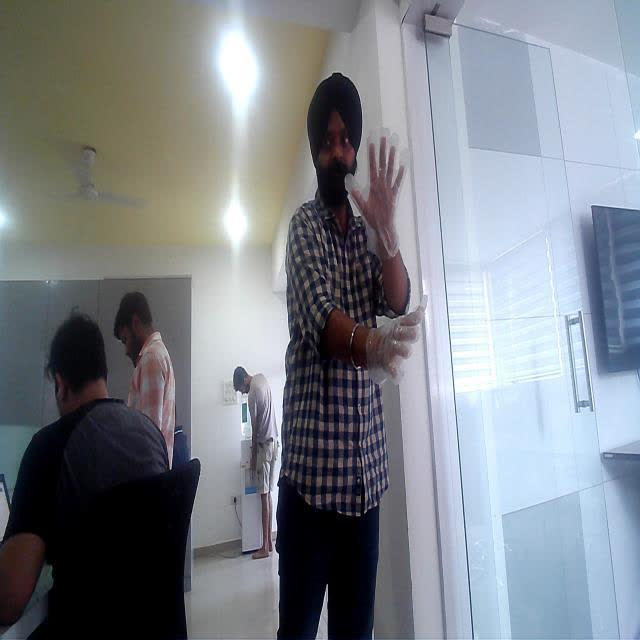with_gloves: (364, 274, 430, 370), (350, 137, 416, 206)
